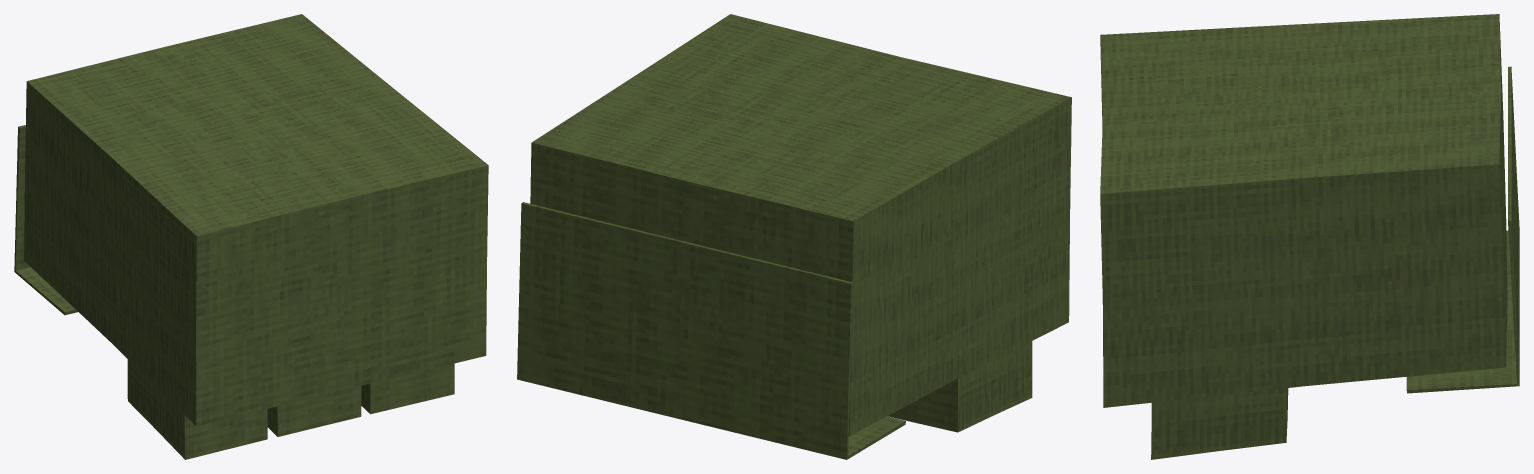
Rendered from pack_ruck_full.glb.
3 views of the same model, side by side, from view 1: azimuth 30°, elevation 25°; view 2: azimuth 150°, elevation 25°; view 3: azimuth 270°, elevation 25° (orthographic). The views are drawn at different scales.
Visible parts, largest first — view 1: pack_worn_ruck_full; view 2: pack_worn_ruck_full; view 3: pack_worn_ruck_full.
Part boxes in pixels (x1,y1,x2,y2): pack_worn_ruck_full: [14, 14, 488, 459]; pack_worn_ruck_full: [517, 14, 1071, 459]; pack_worn_ruck_full: [1100, 14, 1519, 459].
Size of the model in its own units: 0.3263 by 0.2842 by 0.3631.
Materials: 1 (1 with a texture image).
